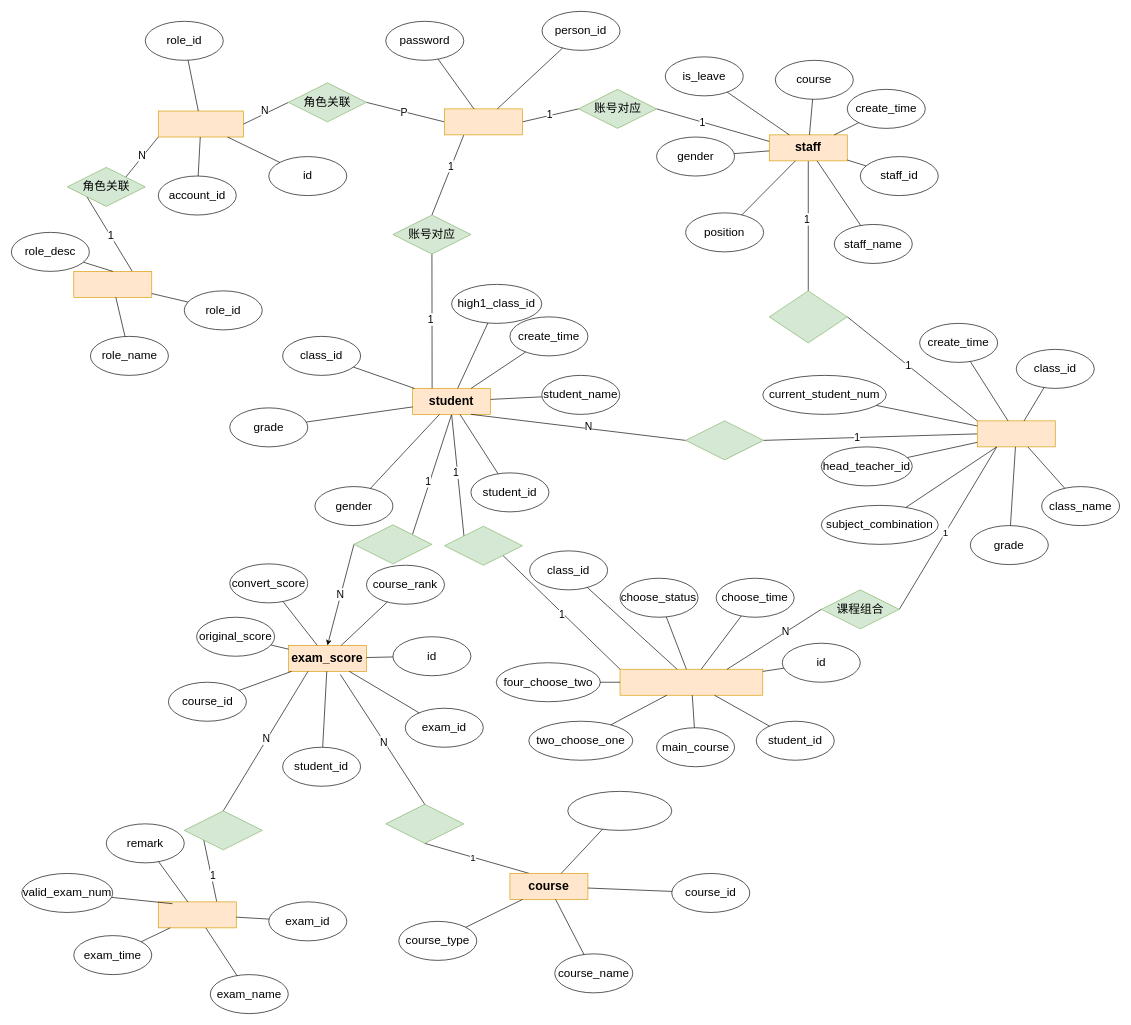
Image size: 1131x1025. Some labels were removed from this diagram. Here are the shapes that lost their labels. From the top down, the centre of each, then its label:
(201,123): account_role
(483,121): account
(112,284): role
(808,316): 班主任 负责班级
(724,440): 所属班级
(1016,433): class
(392,544): 考试分数
(483,545): 学生选科
(691,682): student_course_choose
(223,830): 成绩记录
(424,823): 考试科目
(619,810): is_score_convert
(197,914): exam
